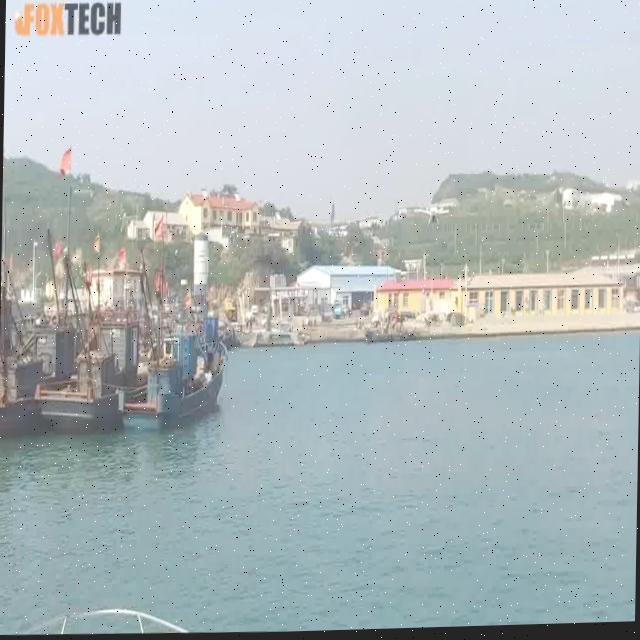drone: (408, 186, 461, 234)
